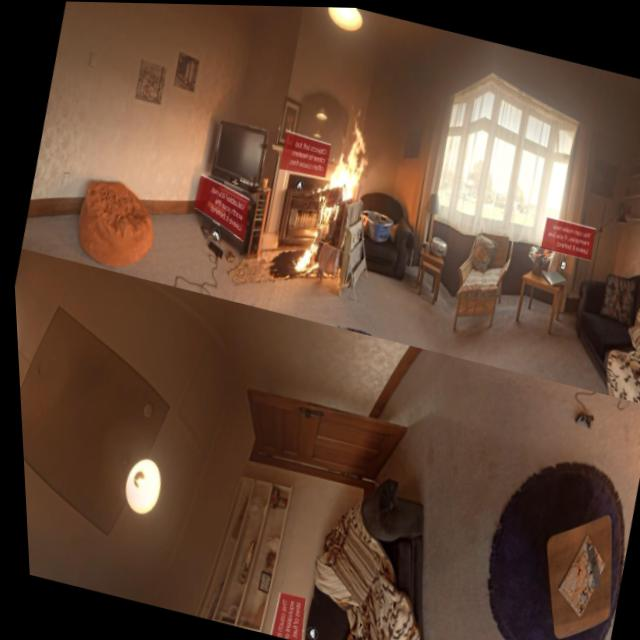fire: (281, 93, 380, 282)
